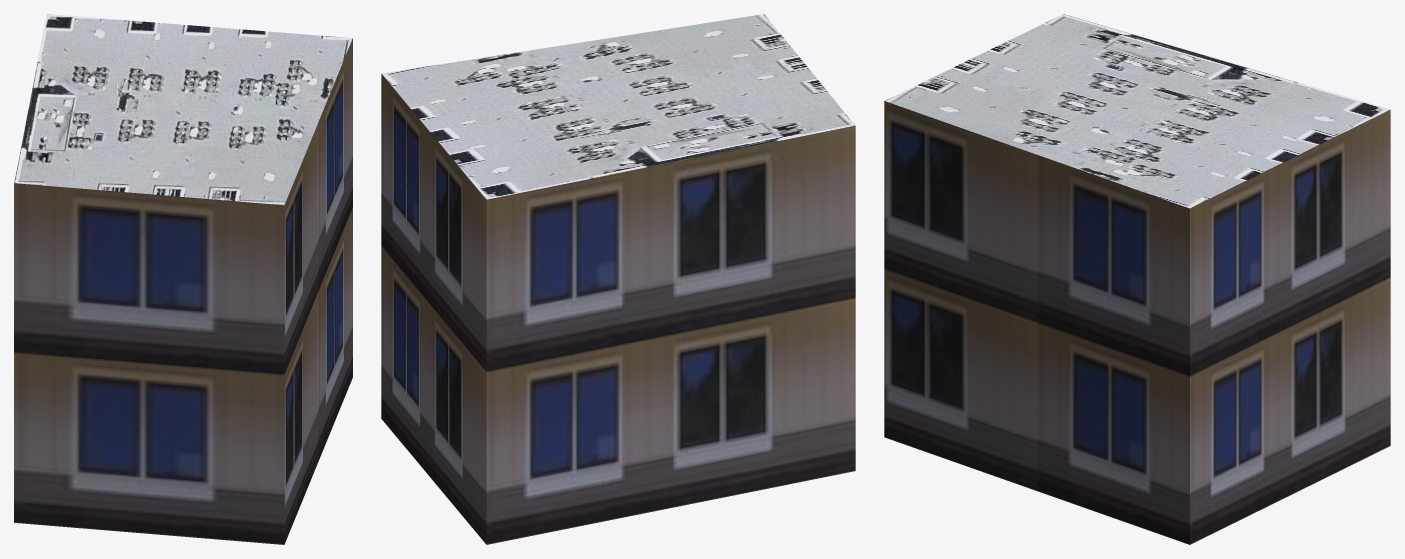
File: ResTex__2738.fbx
3 views of the same model, side by side, from view 1: azimuth 30°, elevation 25°; view 2: azimuth 150°, elevation 25°; view 3: azimuth 270°, elevation 25° (orthographic). The views are drawn at different scales.
Parts seen in each view (by area): view 1: CityEngineMaterial_5_m, CityEngineMaterial_m; view 2: CityEngineMaterial_5_m, CityEngineMaterial_m; view 3: CityEngineMaterial_5_m, CityEngineMaterial_m.
Boxes of the visible parts, x1,y1,x2,y2 form: CityEngineMaterial_5_m: [14, 38, 352, 544]; CityEngineMaterial_m: [14, 14, 352, 205]; CityEngineMaterial_5_m: [381, 74, 855, 544]; CityEngineMaterial_m: [381, 14, 855, 199]; CityEngineMaterial_5_m: [884, 101, 1390, 544]; CityEngineMaterial_m: [885, 14, 1389, 208].
Bounding box in the file's own units: 7.44 × 6 × 8.18.
Materials: 2 (2 with a texture image).
